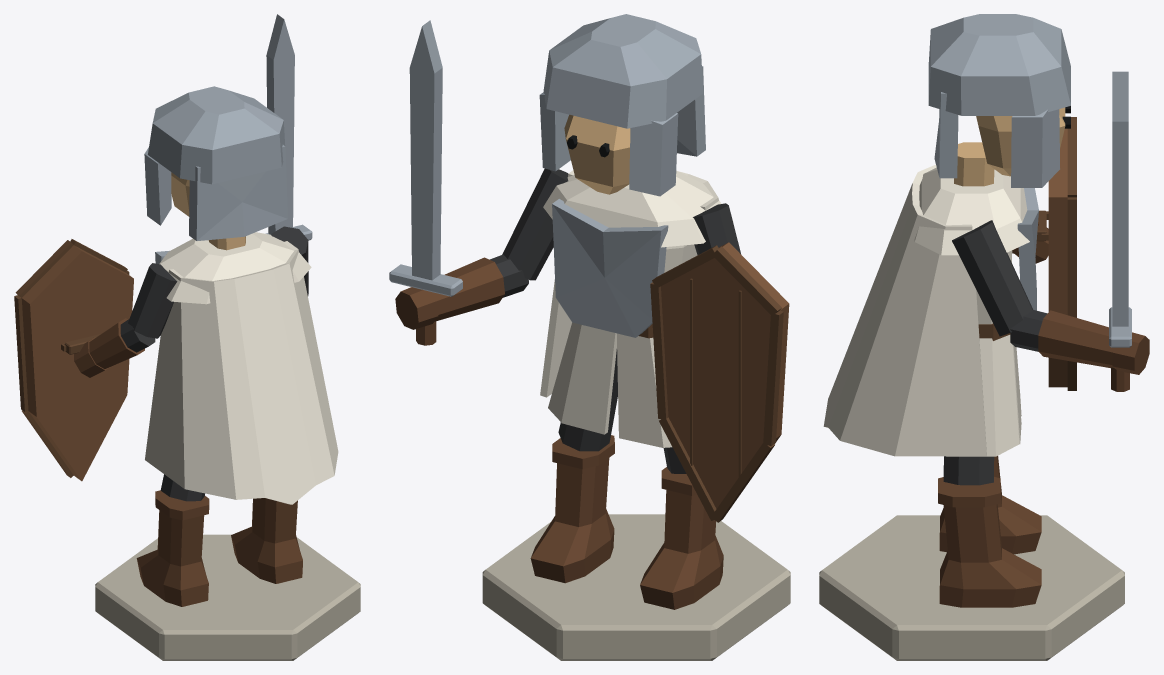
The model's file is human_soldier_t4.glb.
The picture shows the model from 3 angles, left to right: view 1: azimuth 30°, elevation 25°; view 2: azimuth 150°, elevation 25°; view 3: azimuth 270°, elevation 25°; orthographic projection. The views are drawn at different scales.
Visible parts, largest first — view 1: soldier_Wrapped_Back_Cape, Foundation_Hexagonal_Stone, wooden_shield, helmet, helmet_back, Continuous_Shoulder_Mantle, Boot_-1, Boot_1, sword_blade, left_upper_sleeve, helmet_cheek_-1, left_bracer (+8 smaller); view 2: Foundation_Hexagonal_Stone, wooden_shield, helmet, breastplate, sword_blade, Boot_1, Boot_-1, Continuous_Shoulder_Mantle, Split_Tunic_Front_1, Split_Tunic_Front_-1, Angular_Face, helmet_cheek_-1 (+21 smaller); view 3: soldier_Wrapped_Back_Cape, Foundation_Hexagonal_Stone, helmet, Boot_1, Continuous_Shoulder_Mantle, right_upper_sleeve, sword_blade, Continuous_Split_Tunic_Skirt, wooden_shield, helmet_cheek_1, right_bracer, Boot_-1 (+11 smaller).
Boxes of the visible parts, x1,y1,x2,y2 form: soldier_Wrapped_Back_Cape: (145, 241, 338, 504); Foundation_Hexagonal_Stone: (95, 534, 360, 660); wooden_shield: (21, 245, 133, 481); helmet: (148, 86, 285, 184); helmet_back: (189, 145, 287, 240); Continuous_Shoulder_Mantle: (159, 232, 311, 304); Boot_-1: (136, 510, 208, 606); Boot_1: (231, 498, 302, 583); sword_blade: (266, 14, 294, 234); left_upper_sleeve: (128, 263, 177, 338); helmet_cheek_-1: (144, 147, 171, 225); left_bracer: (89, 318, 144, 368); Foundation_Hexagonal_Stone: (482, 514, 790, 660); wooden_shield: (661, 242, 789, 508); helmet: (543, 14, 703, 128); breastplate: (552, 199, 668, 337); sword_blade: (409, 20, 442, 280); Boot_1: (530, 458, 614, 583); Boot_-1: (640, 490, 723, 609); Continuous_Shoulder_Mantle: (543, 170, 733, 247); Split_Tunic_Front_1: (561, 325, 616, 434); Split_Tunic_Front_-1: (617, 333, 663, 447); Angular_Face: (564, 114, 630, 194); helmet_cheek_-1: (629, 113, 678, 196); soldier_Wrapped_Back_Cape: (823, 164, 986, 456); Foundation_Hexagonal_Stone: (819, 515, 1124, 660); helmet: (928, 14, 1070, 115); Boot_1: (939, 504, 1041, 607); Continuous_Shoulder_Mantle: (914, 167, 1029, 255); right_upper_sleeve: (952, 220, 1032, 336); sword_blade: (1112, 71, 1128, 326); Continuous_Split_Tunic_Skirt: (946, 335, 1019, 456); wooden_shield: (1048, 128, 1067, 387); helmet_cheek_1: (1011, 109, 1059, 187); right_bracer: (1038, 310, 1113, 368); Boot_-1: (939, 456, 1041, 554).
Size of the model in its own units: 1.26 by 2.01 by 1.
